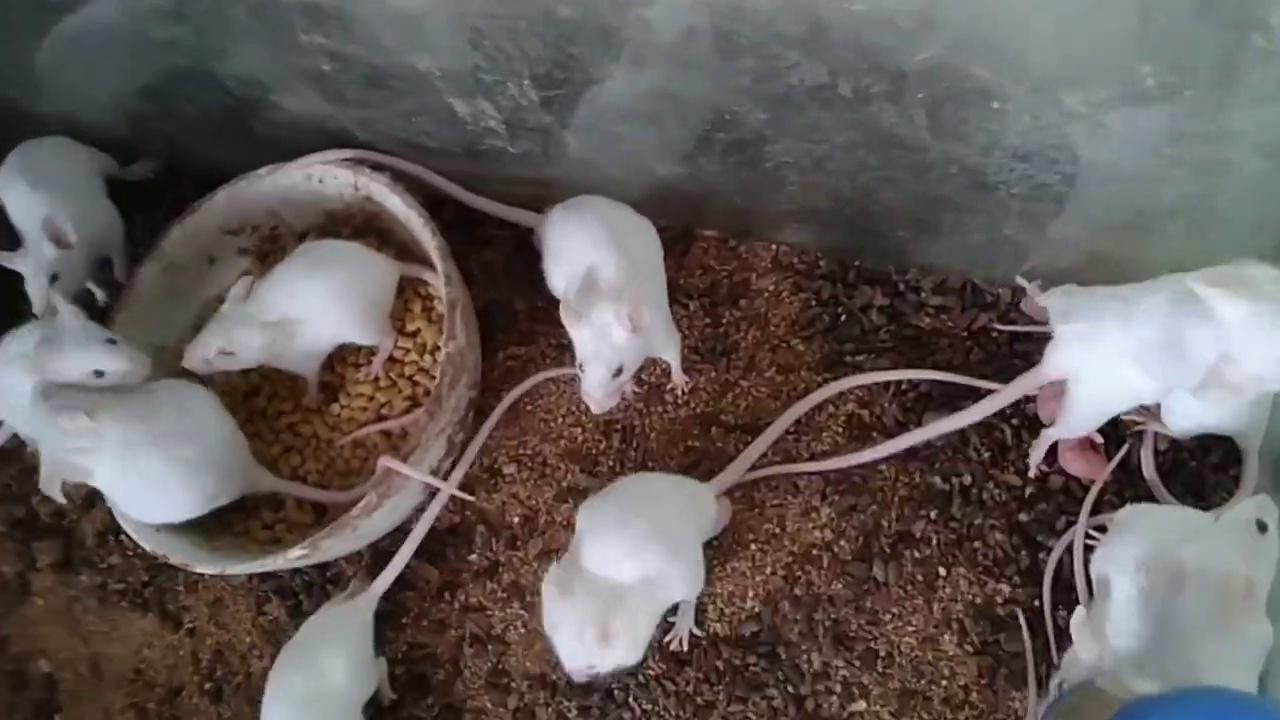rat: (542, 368, 1000, 684), (734, 258, 1280, 483), (261, 366, 580, 720), (269, 148, 691, 412), (29, 384, 476, 524), (181, 238, 444, 405), (1119, 492, 1280, 697), (0, 136, 165, 316), (0, 292, 151, 446)
